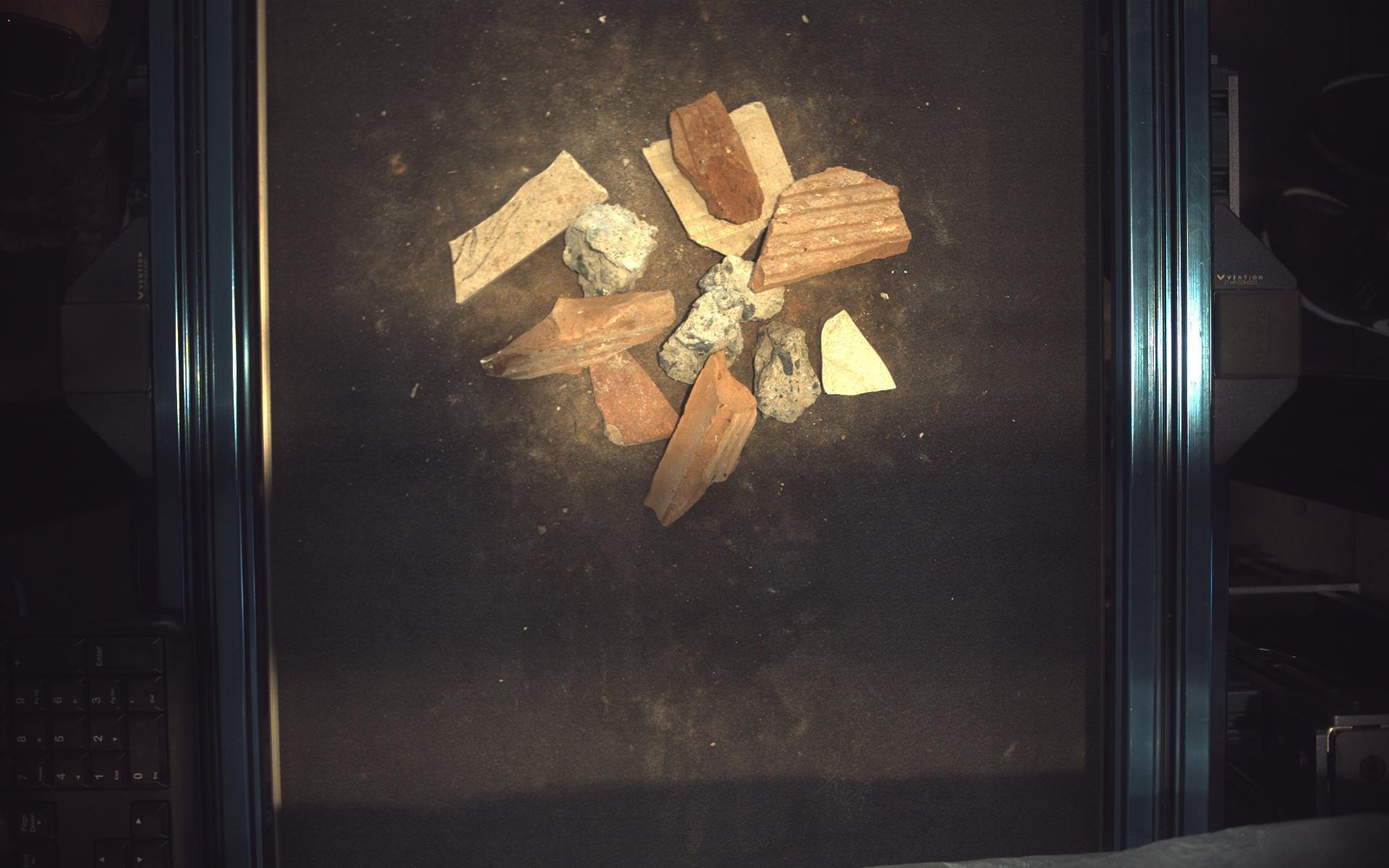brick: (749, 163, 914, 292), (643, 349, 757, 526), (478, 287, 676, 379), (668, 88, 765, 224), (588, 349, 679, 446)
concrete: (562, 200, 658, 297), (657, 284, 745, 384), (752, 318, 823, 423), (697, 253, 786, 320)
tile: (448, 148, 608, 303), (641, 98, 795, 255), (821, 307, 898, 395)
